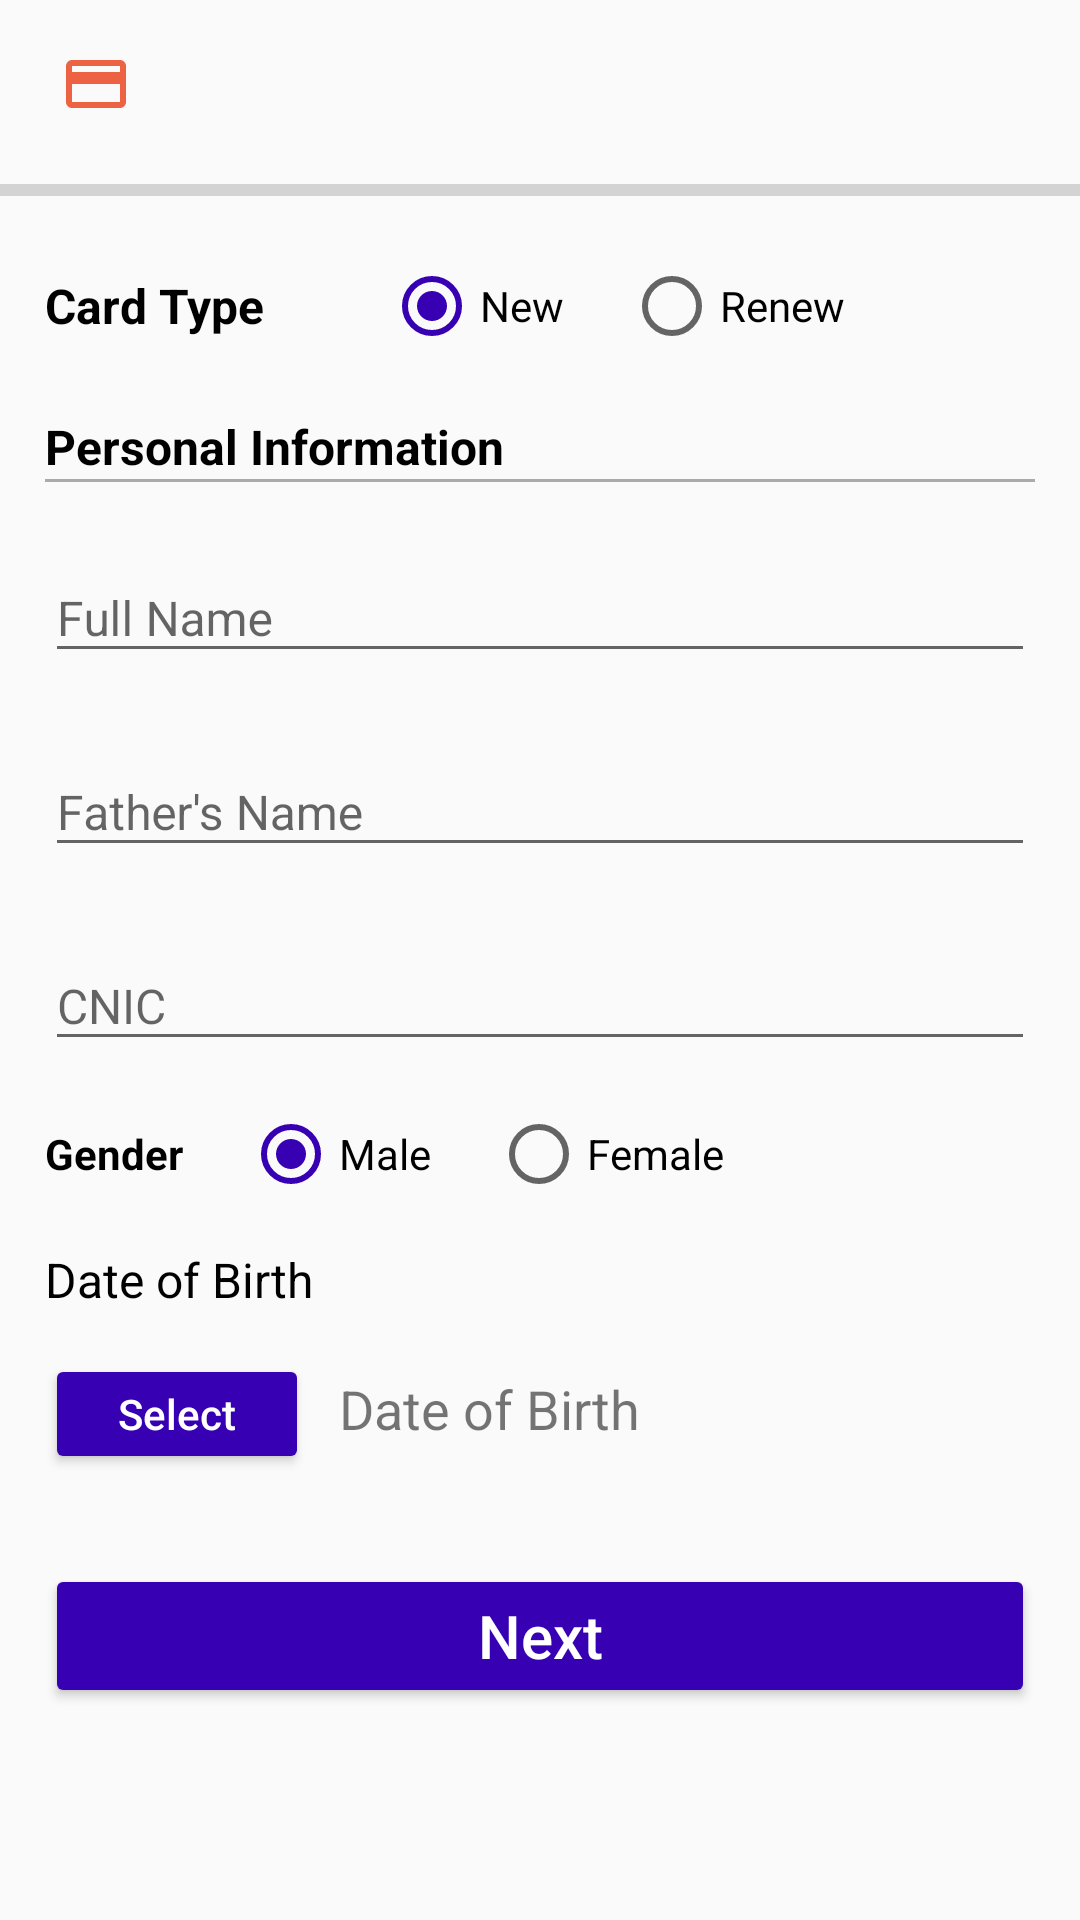

Screen size 1080*1920. Icon name, then its box in pixels as [x1=x1, y1=y1, x2=x2, y2=y2]:
smart card: [x1=66, y1=60, x2=126, y2=108]
